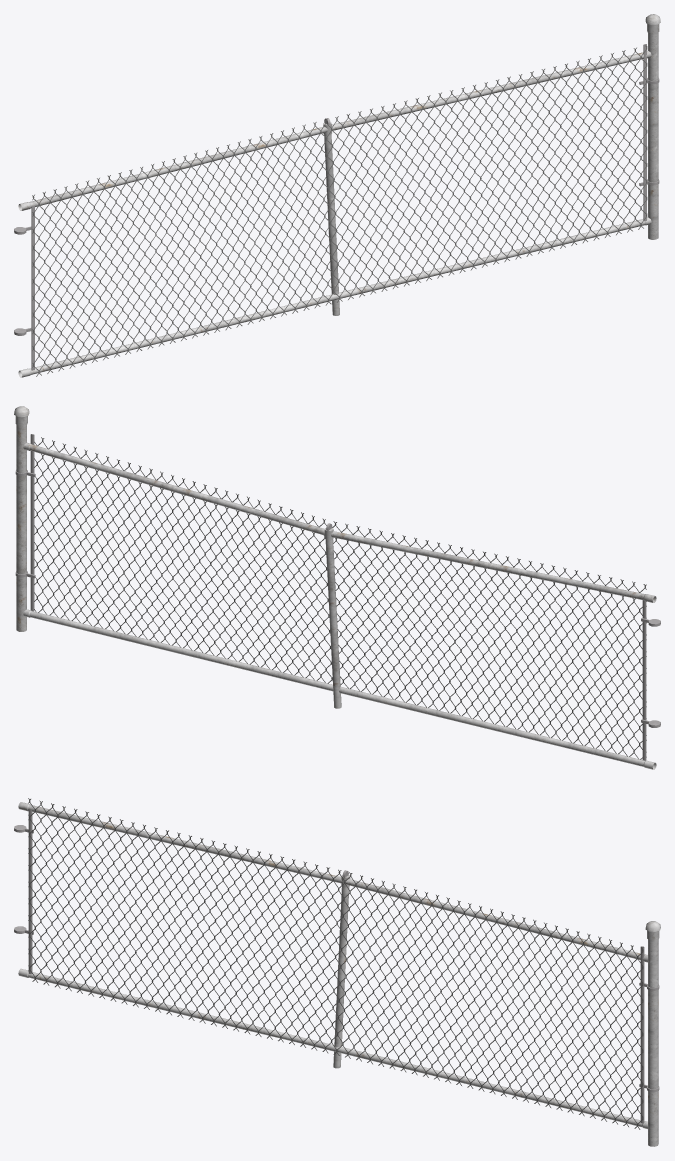
The model's file is ChainlinkFence_Short_B.fbx.
The picture shows the model from 3 angles, top to bottom: view 1: azimuth 30°, elevation 25°; view 2: azimuth 150°, elevation 25°; view 3: azimuth 330°, elevation 25°; orthographic projection.
Visible parts, largest first — view 1: ChainlinkFence_Short_B_LOD0; view 2: ChainlinkFence_Short_B_LOD0; view 3: ChainlinkFence_Short_B_LOD0.
Boxes of the visible parts, x1,y1,x2,y2 form: ChainlinkFence_Short_B_LOD0: (14,14,660,377); ChainlinkFence_Short_B_LOD0: (14,406,660,769); ChainlinkFence_Short_B_LOD0: (14,798,660,1146).
Size of what is drawn, in the model's own units: 510 by 168 by 21.17.
